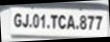character: (66, 14, 76, 30), (12, 12, 22, 27), (57, 14, 67, 29), (49, 13, 58, 29), (79, 14, 88, 30), (94, 15, 103, 31), (86, 14, 94, 30), (21, 13, 29, 28), (32, 14, 40, 28), (39, 13, 46, 28)
